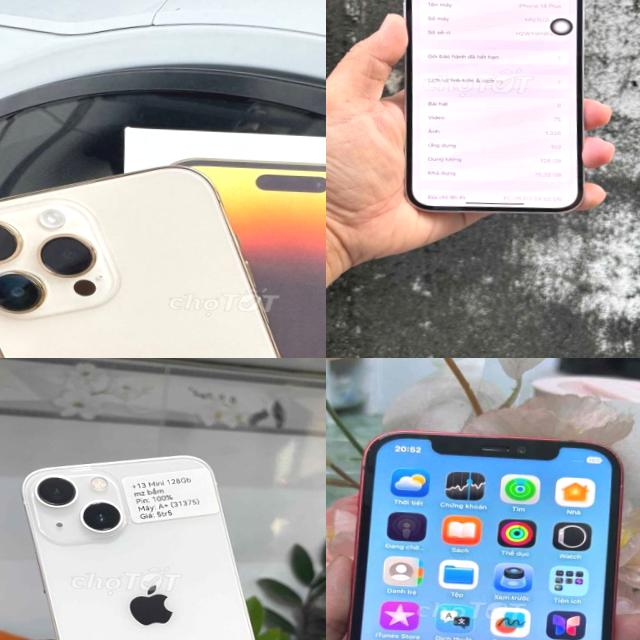gen_11: (326, 424, 632, 640)
gen_12_13: (7, 444, 293, 640)
gen_14: (0, 154, 326, 358), (382, 0, 609, 226)
